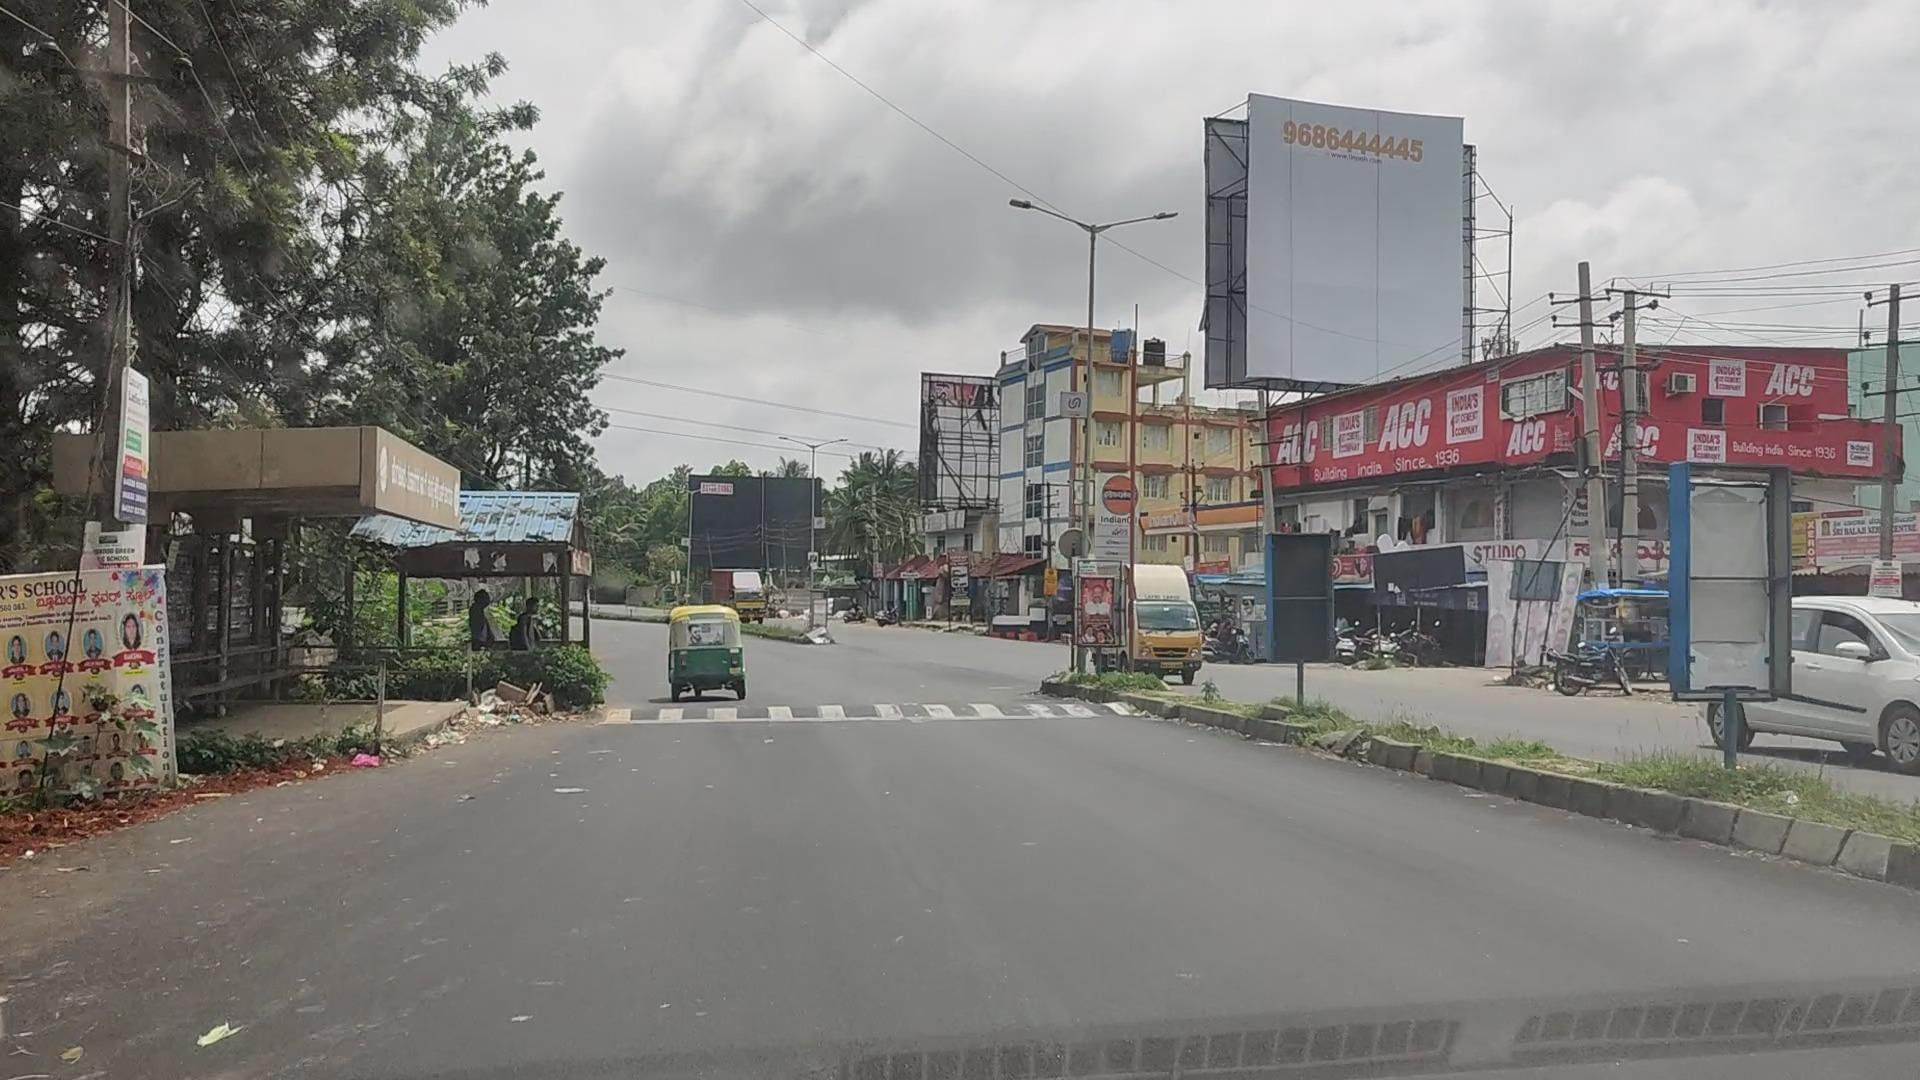LMV: (671, 604, 745, 695)
SpeedBump: (583, 692, 1138, 729)
